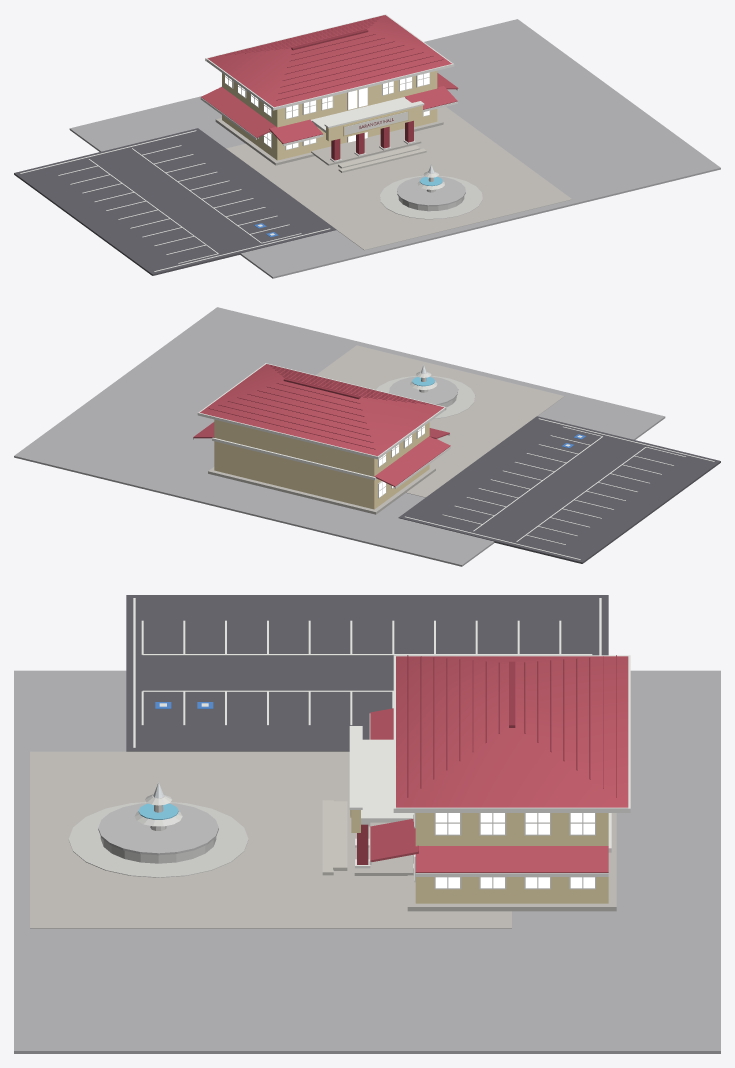
Rendered from BarangayHall_Complete.fbx.
The picture shows the model from 3 angles, top to bottom: view 1: azimuth 30°, elevation 25°; view 2: azimuth 150°, elevation 25°; view 3: azimuth 270°, elevation 25°; orthographic projection. The views are drawn at different scales.
Parts seen in each view (by area): view 1: Plaza, ParkingAsphalt, Apron, Roof, WallUpper, FountainPad, WallGround, AwningSide, FountainRim, PorticoFloor, BaseSlab, AwningFront (+8 smaller); view 2: Plaza, ParkingAsphalt, Roof, Apron, WallGround, WallUpper, AwningSide, BaseSlab, FountainRim, FountainPad, EaveTrimB, Slab2Band; view 3: Plaza, ParkingAsphalt, Apron, Roof, AwningSide.001, FountainPad, FountainRim, WallUpper, WallGround, PorticoSlab, BaseSlab, AwningFront.001 (+9 smaller).
Part boxes in pixels (box(x1,y1,x2,y2)): Plaza: box(69, 19, 720, 278); ParkingAsphalt: box(14, 128, 336, 275); Apron: box(226, 106, 572, 250); Roof: box(207, 15, 451, 107); WallUpper: box(222, 71, 437, 127); FountainPad: box(380, 175, 482, 219); WallGround: box(222, 109, 437, 160); AwningSide: box(201, 87, 276, 137); FountainRim: box(397, 176, 465, 206); PorticoFloor: box(311, 128, 421, 165); BaseSlab: box(215, 118, 443, 165); AwningFront: box(269, 119, 322, 143); Plaza: box(14, 307, 665, 566); ParkingAsphalt: box(398, 416, 720, 563); Roof: box(200, 364, 443, 456); Apron: box(316, 345, 564, 497); WallGround: box(214, 441, 429, 509); WallUpper: box(214, 419, 429, 476); AwningSide: box(374, 436, 450, 486); BaseSlab: box(208, 467, 435, 514); FountainRim: box(389, 376, 458, 404); FountainPad: box(376, 376, 474, 418); EaveTrimB: box(197, 412, 378, 459); Slab2Band: box(212, 437, 376, 480); Plaza: box(14, 670, 720, 1053); ParkingAsphalt: box(126, 595, 608, 751); Apron: box(30, 751, 511, 928); Roof: box(396, 656, 628, 807); AwningSide.001: box(415, 846, 608, 872); FountainPad: box(68, 802, 248, 877); FountainRim: box(98, 803, 218, 855); WallUpper: box(415, 813, 608, 845); WallGround: box(415, 877, 608, 903); PorticoSlab: box(361, 739, 412, 822); BaseSlab: box(407, 813, 616, 911); AwningFront.001: box(370, 819, 418, 861).
Bounding box in the file's own units: 67 × 10.29 × 44.
